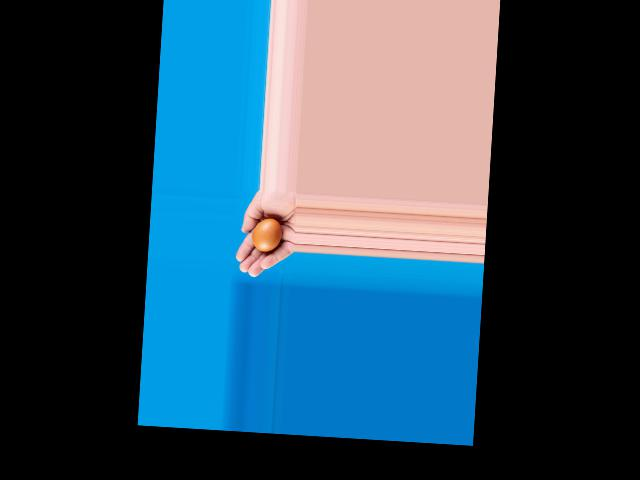egg: (251, 217, 282, 253)
